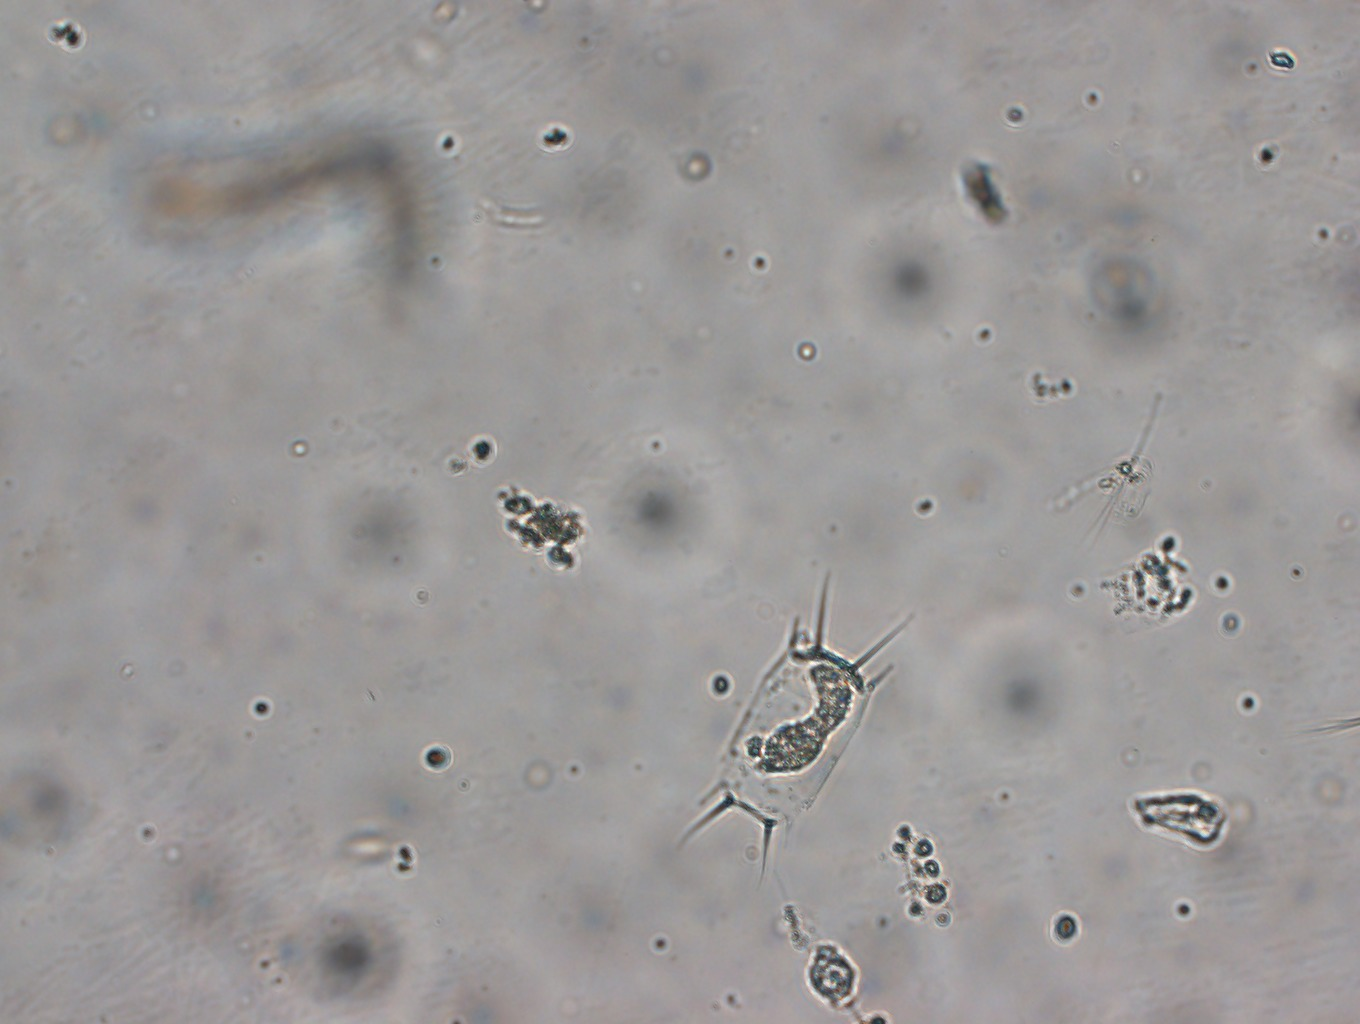biddulphia: (677, 573, 917, 884)
